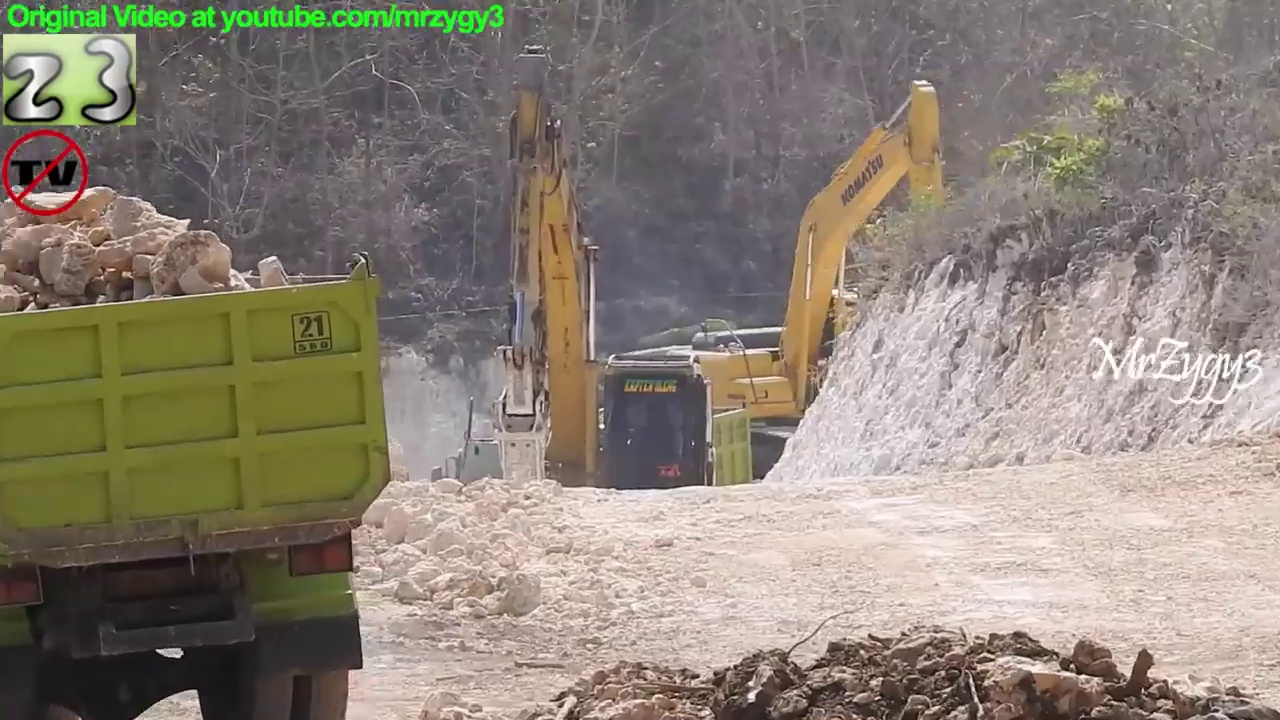excavator: (437, 37, 716, 567), (636, 71, 971, 506)
truck: (1, 247, 400, 720), (584, 364, 767, 537)
